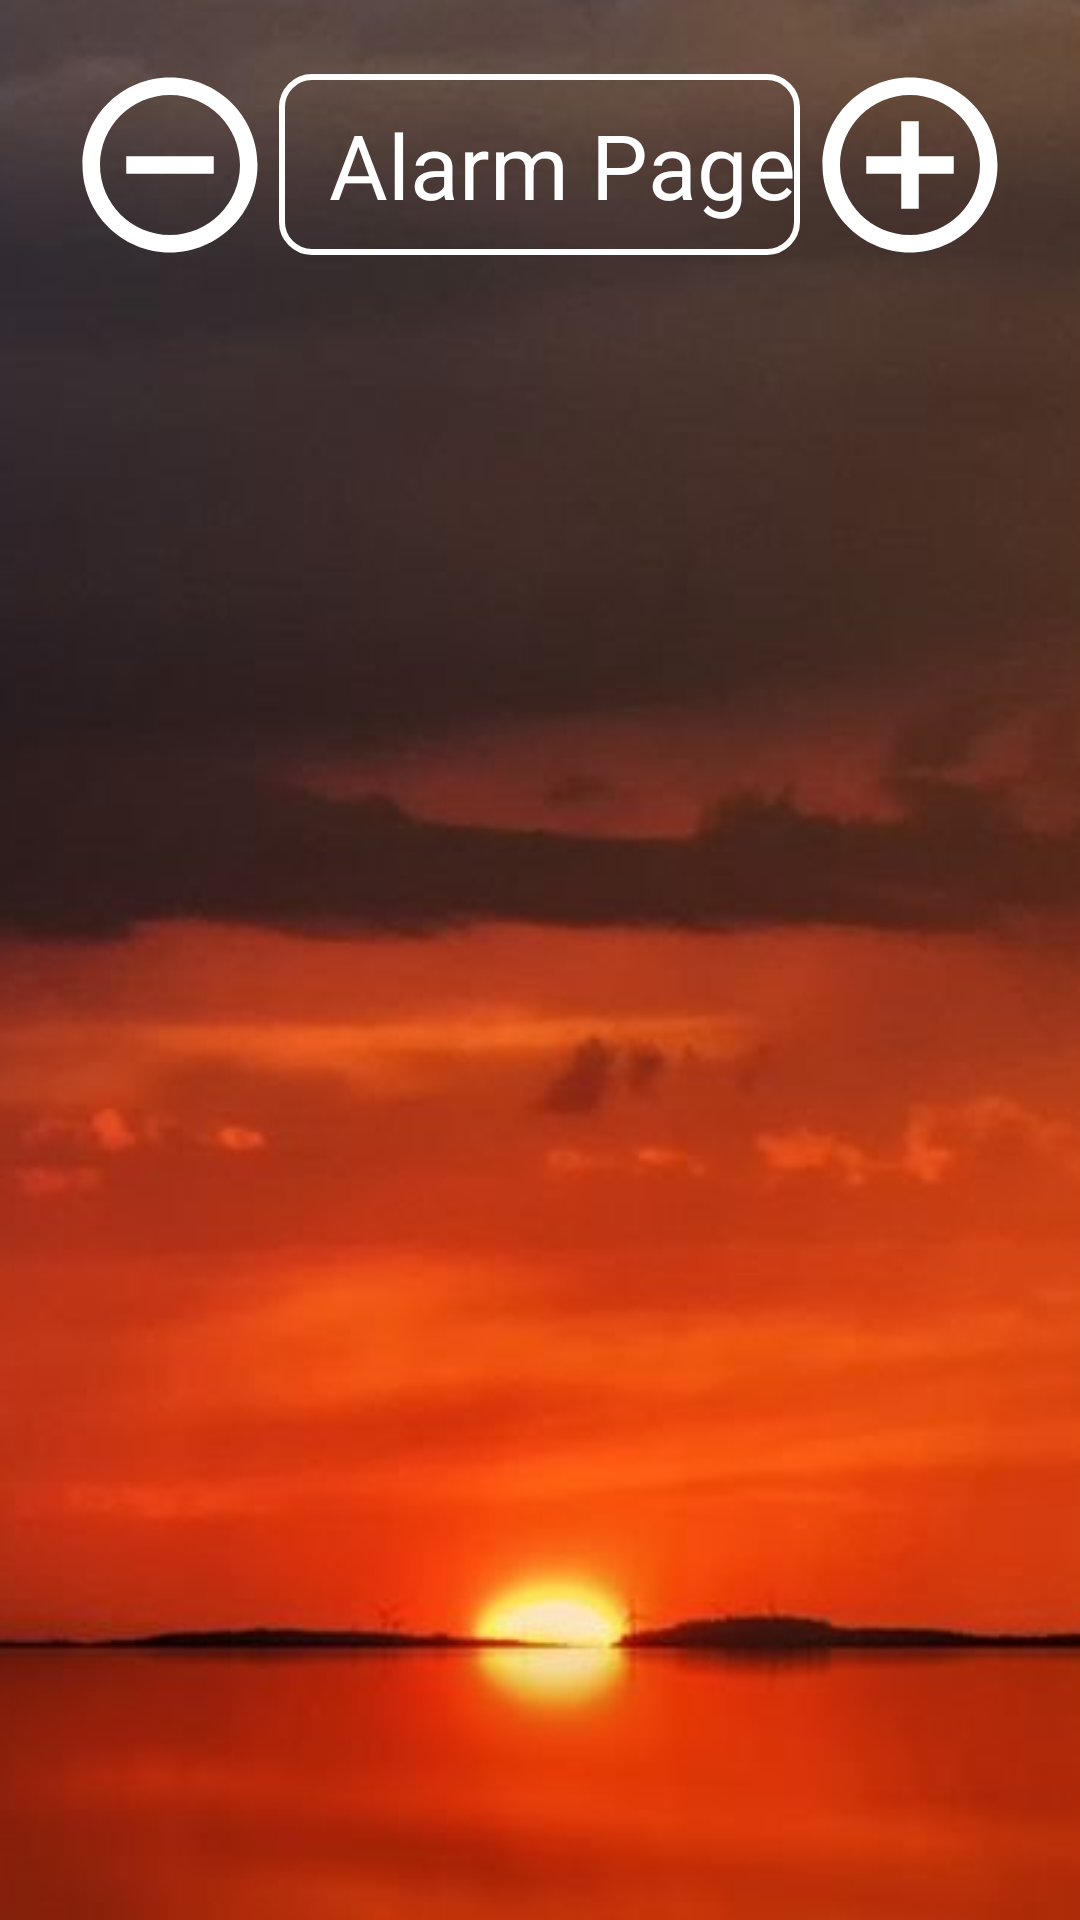

Where to tap for icons on this 1080w x 1920h app screen, as (x=x, y=y):
Add alarm button: (x=910, y=164)
Delete alarm button: (x=169, y=165)
